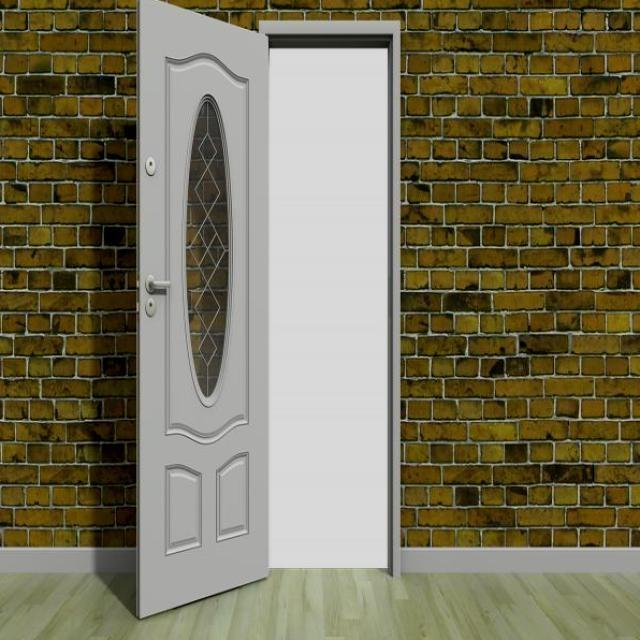door: (134, 0, 270, 619)
